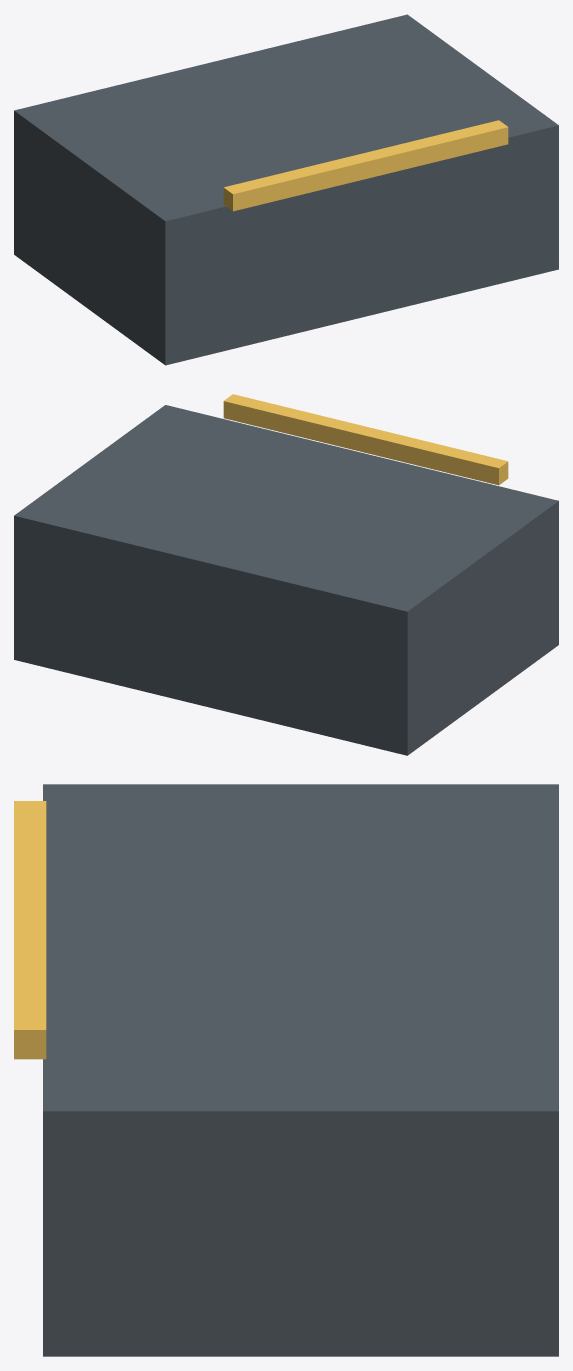
Rendered from prop.flashbang_case.glb.
3 views of the same model, one above another, from view 1: azimuth 30°, elevation 25°; view 2: azimuth 150°, elevation 25°; view 3: azimuth 270°, elevation 25° (orthographic). The views are drawn at different scales.
Parts seen in each view (by area): view 1: case, flash_label; view 2: case, flash_label; view 3: case, flash_label.
Part boxes in pixels (x1,y1,x2,y2): case: (14, 14, 558, 365); flash_label: (223, 120, 508, 211); case: (14, 405, 558, 755); flash_label: (223, 394, 508, 485); case: (43, 784, 558, 1356); flash_label: (14, 801, 46, 1059).
Size of the model in its own units: 1.2 by 0.475 by 0.845.
